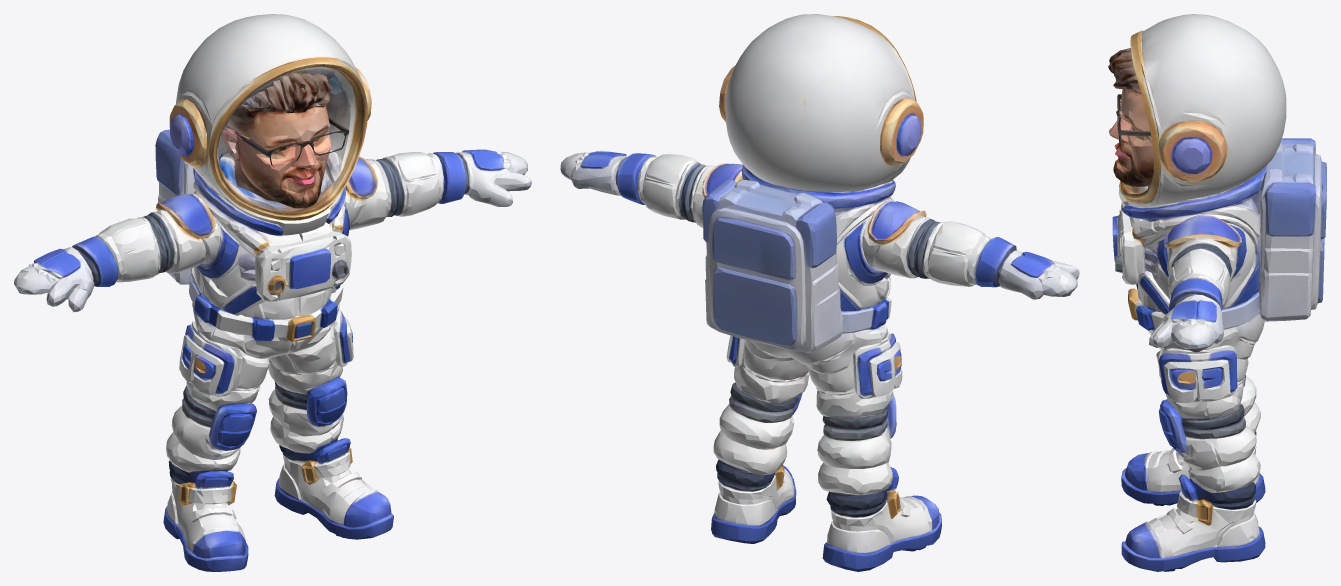
Rendered from astronaut.glb.
The picture shows the model from 3 angles, left to right: view 1: azimuth 30°, elevation 25°; view 2: azimuth 150°, elevation 25°; view 3: azimuth 270°, elevation 25°; orthographic projection.
Visible parts, largest first — view 1: model; view 2: model; view 3: model.
Boxes of the visible parts, x1=… form: model: x1=14, y1=14, x2=531, y2=571; model: x1=560, y1=14, x2=1079, y2=571; model: x1=1108, y1=14, x2=1326, y2=571.
Size of the model in its own units: 1.89 by 1.82 by 0.7131.
1 material, 1 textured.
